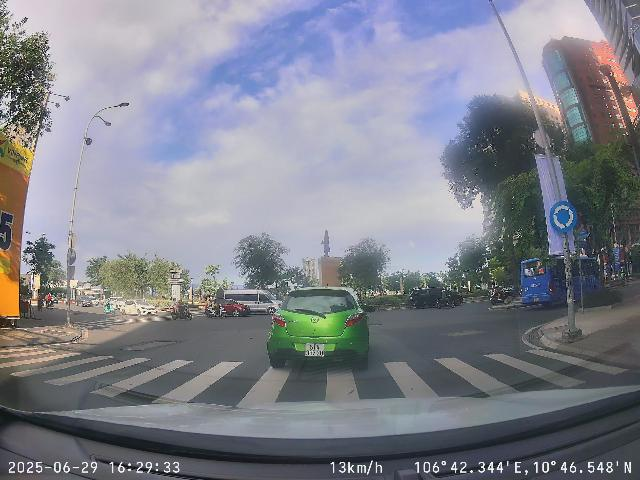303-noi-giao-nhau-chay-theo-vong-xuyen: (550, 200, 577, 233)
